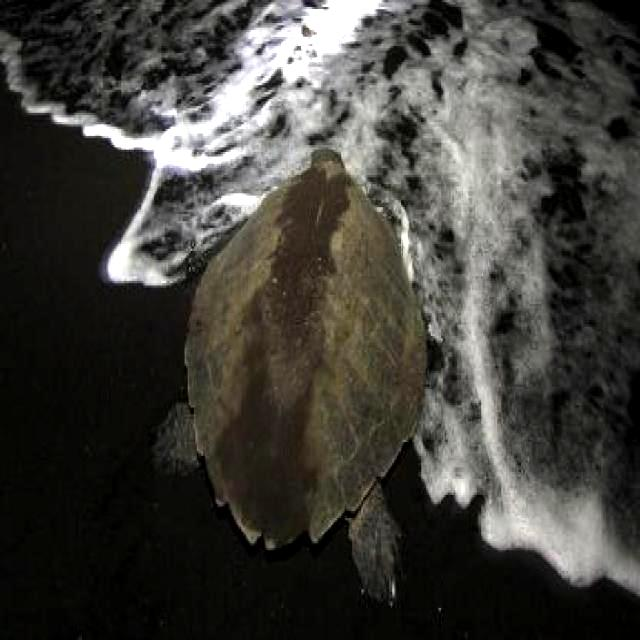Sea turtle: (155, 136, 461, 619)
